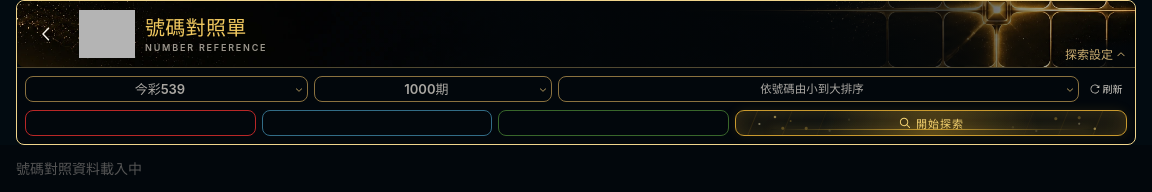
Test: data page request failures are not normal empty data › 號碼對照單 API 失敗時顯示 error + retry
This screenshot has width=1152, height=192.
Click the button "開始探索" at point(931, 123), box [735,110,1127,136]
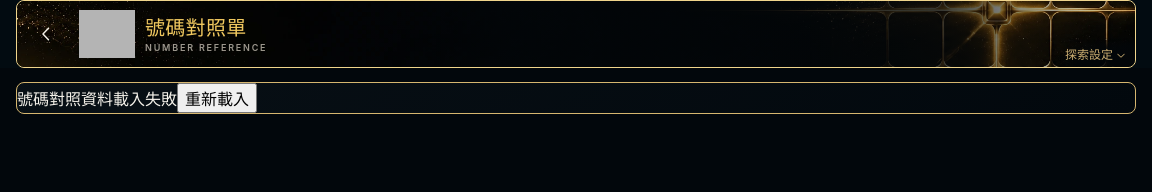
Check: the message shows "號碼對照資料載入失敗", box [17,89,177,109]
Check: the button with aria-label "重新載入號碼對照資料" is enabled, box [177,83,257,113]
